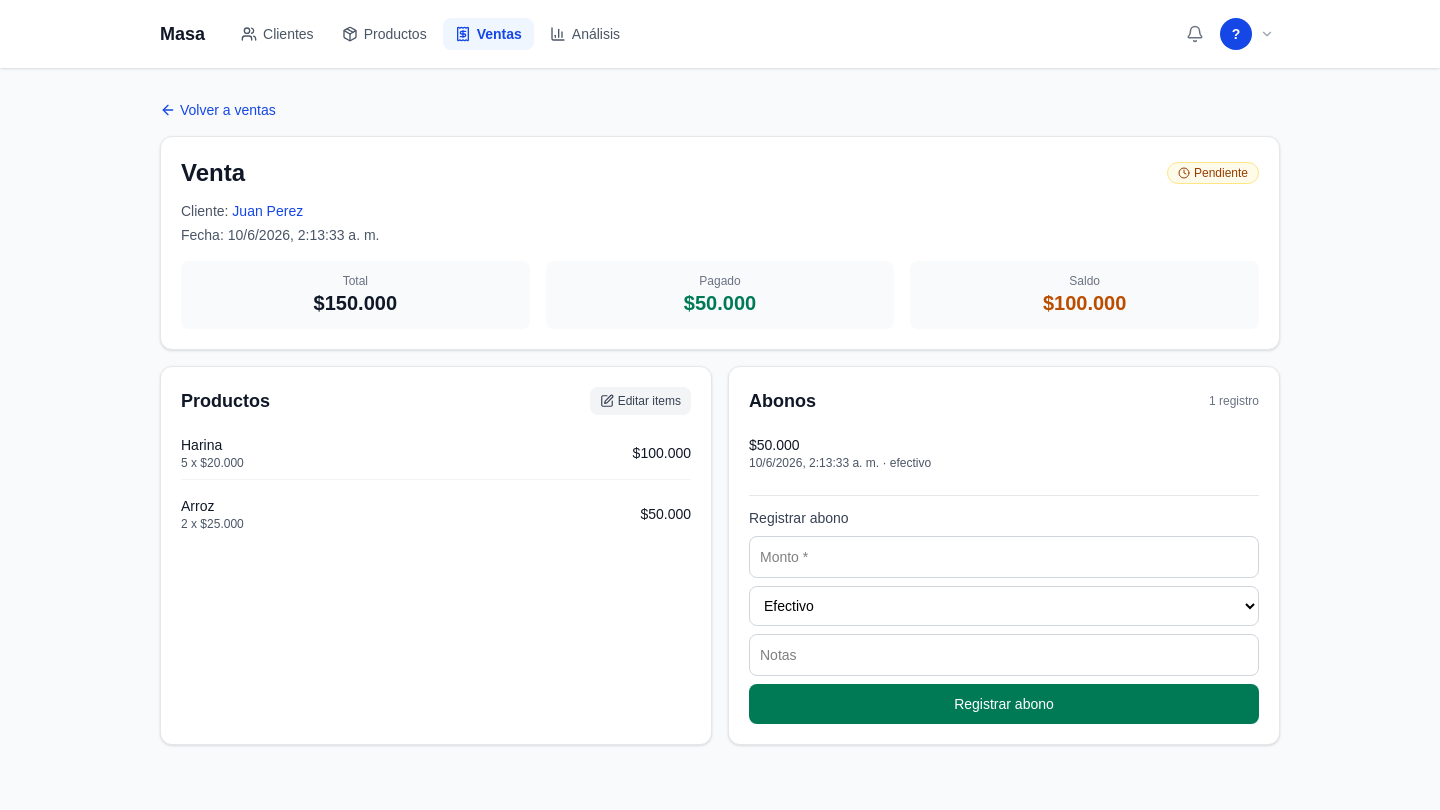
VentaDetallePage — edit mode › keeps edit mode active and shows error when save fails
The width and height of the screenshot is (1440, 810).
Check: the link "Juan Perez" is shown, box [232, 203, 303, 219]
Click the button "Editar items": (640, 401) [590, 387, 691, 415]
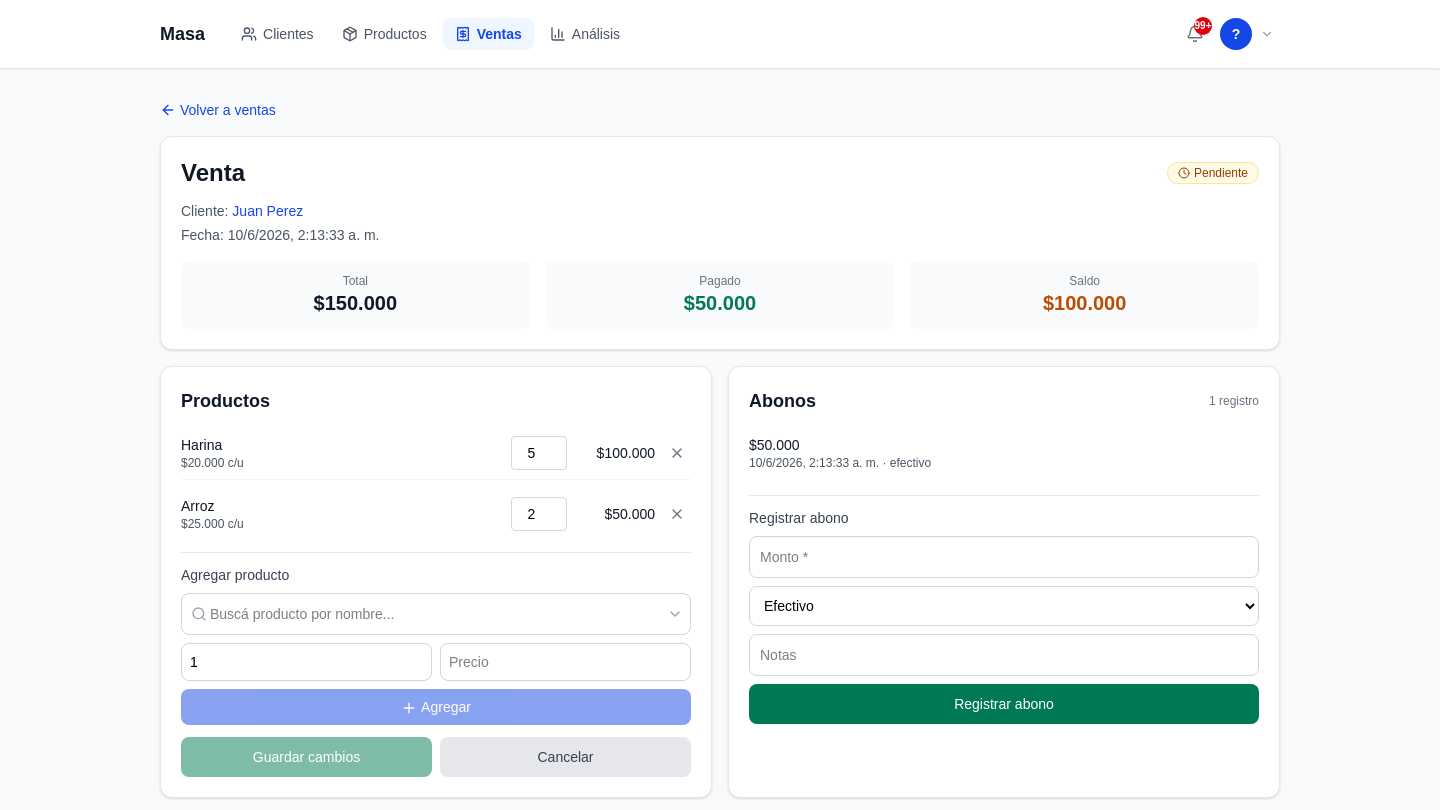
Check: the button "Guardar cambios" is shown, box [181, 737, 432, 777]
Click the button titled "Eliminar item" in the row of "$20.000": (677, 453) [663, 439, 691, 467]
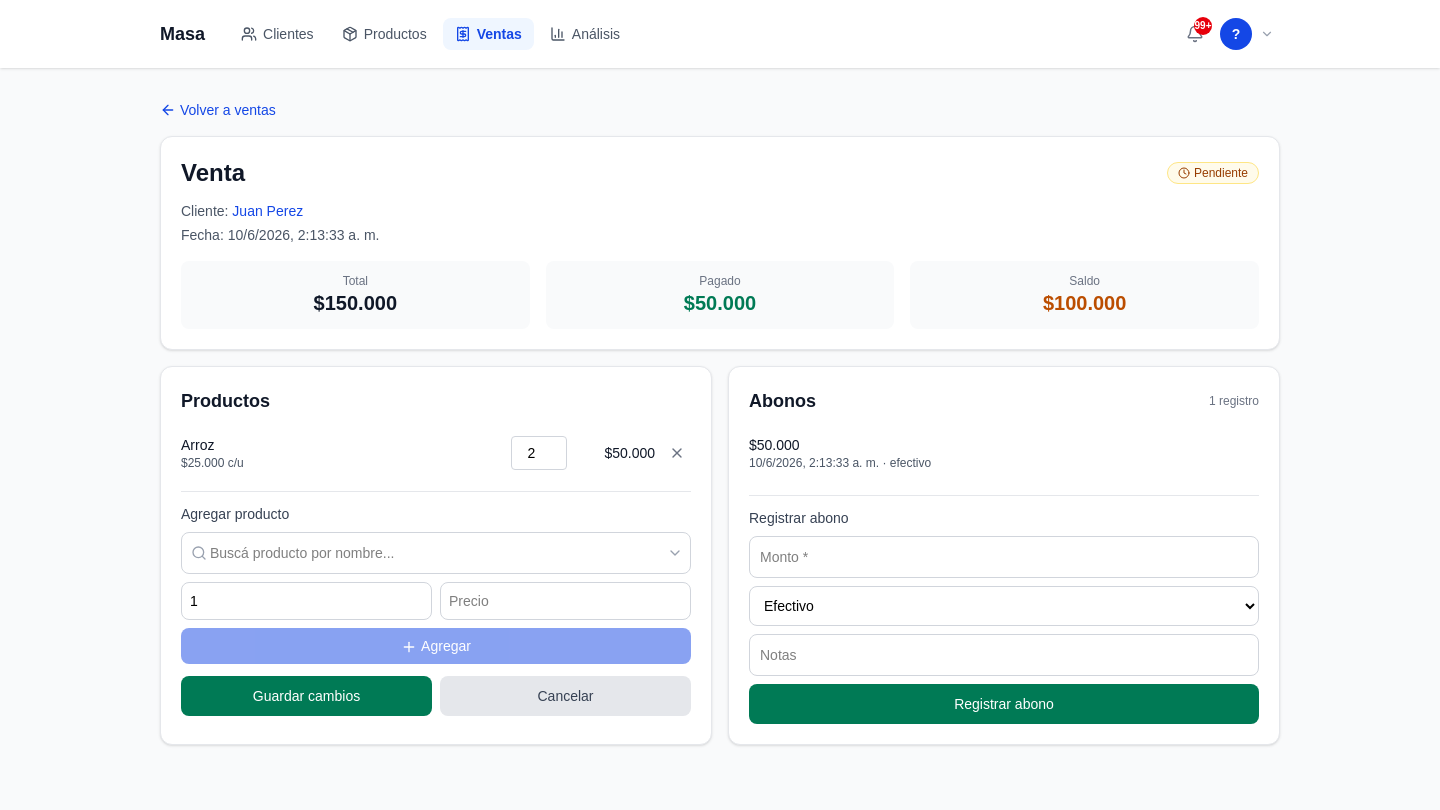
Click the button "Guardar cambios": (306, 696) [181, 676, 432, 716]
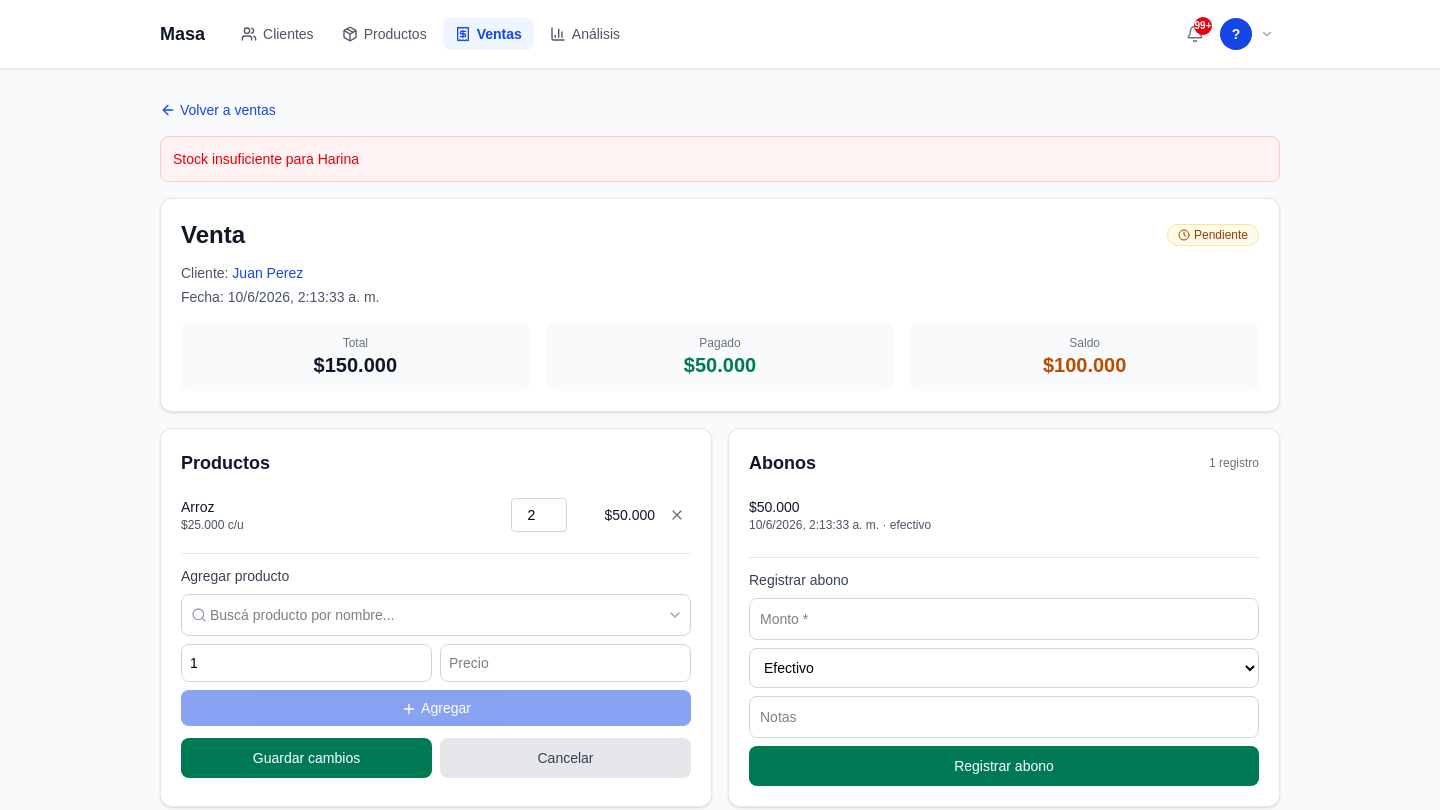
Check: the button "Guardar cambios" is shown, box [181, 738, 432, 778]
Check: the button "Cancelar" is shown, box [440, 738, 691, 778]
Check: the text "Stock insuficiente para Harina" is shown, box [160, 136, 1280, 182]
